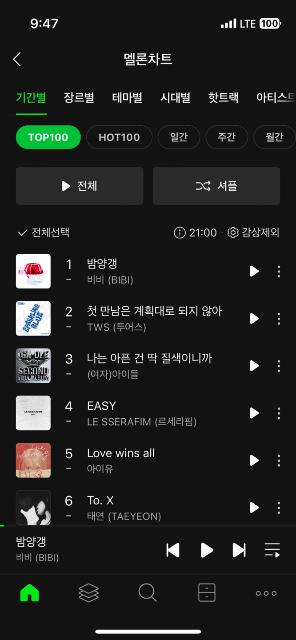Bottom_Navigation: (2, 574, 296, 640)
Icon: (79, 582, 99, 602), (19, 584, 39, 602), (139, 583, 157, 603), (198, 584, 216, 602), (266, 542, 280, 560), (166, 542, 180, 558), (194, 180, 212, 192), (233, 542, 246, 558), (202, 544, 214, 558), (174, 227, 186, 239), (249, 266, 260, 278), (255, 591, 277, 597), (228, 226, 238, 238), (250, 502, 260, 514), (61, 180, 70, 192), (251, 312, 259, 324), (251, 360, 259, 372), (250, 407, 258, 419), (250, 455, 258, 467), (14, 52, 20, 66), (18, 229, 28, 237), (278, 265, 280, 279), (278, 312, 280, 326), (278, 408, 280, 420), (278, 454, 280, 466), (278, 502, 280, 514), (278, 361, 280, 372)
Image: (16, 490, 50, 524), (16, 443, 50, 477), (16, 395, 50, 429), (16, 348, 50, 382), (16, 302, 50, 336), (16, 254, 50, 288)
List: (1, 248, 296, 528)
Multi_Tab: (0, 82, 296, 115)
Text: (66, 306, 222, 332), (66, 353, 214, 379), (64, 402, 196, 426), (66, 447, 156, 475), (65, 494, 161, 520), (65, 259, 133, 285), (16, 537, 57, 561), (124, 52, 172, 66), (258, 92, 294, 104), (28, 132, 66, 142), (16, 92, 46, 104), (64, 92, 94, 104), (112, 92, 142, 104), (209, 92, 239, 104), (32, 228, 68, 238), (244, 228, 278, 238), (162, 91, 190, 103), (98, 134, 140, 142), (189, 228, 217, 238), (265, 132, 283, 144), (218, 180, 236, 192), (219, 132, 237, 142), (78, 181, 96, 191), (171, 133, 187, 143)
TextButton: (16, 125, 82, 149), (86, 125, 152, 149), (158, 126, 200, 150), (206, 125, 248, 149), (253, 125, 294, 148)
TextImageButton: (15, 167, 143, 205), (153, 168, 281, 204), (18, 226, 70, 238)
Toolbar: (0, 41, 296, 80)
UpperTaskBar: (0, 0, 296, 40)
